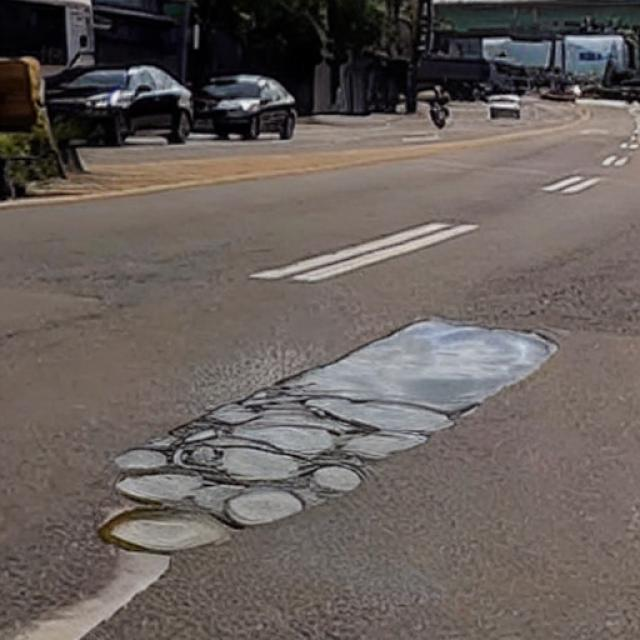puddle: (109, 319, 556, 548)
